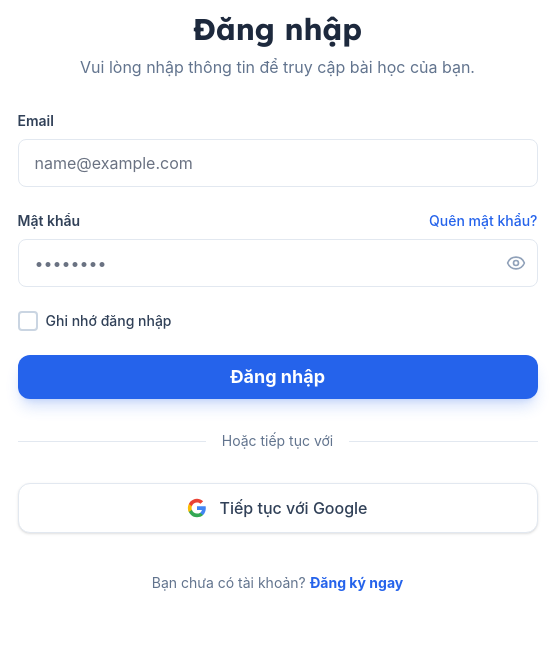
LoginForm Component › shows error messages when submitting empty form
The width and height of the screenshot is (557, 648).
What coordinates should you click on to do the following:
click the button "Đăng nhập"
I would click on:
 (278, 377)
Its box is x1=18 y1=355 x2=538 y2=399.
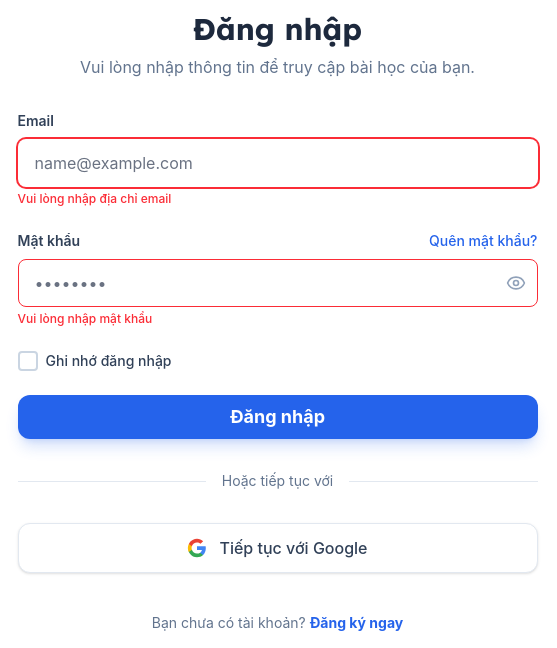
Expected: the text "Vui lòng nhập địa chỉ email" is shown, x1=18 y1=191 x2=171 y2=206
Expected: the text "Vui lòng nhập mật khẩu" is shown, x1=18 y1=311 x2=152 y2=326
